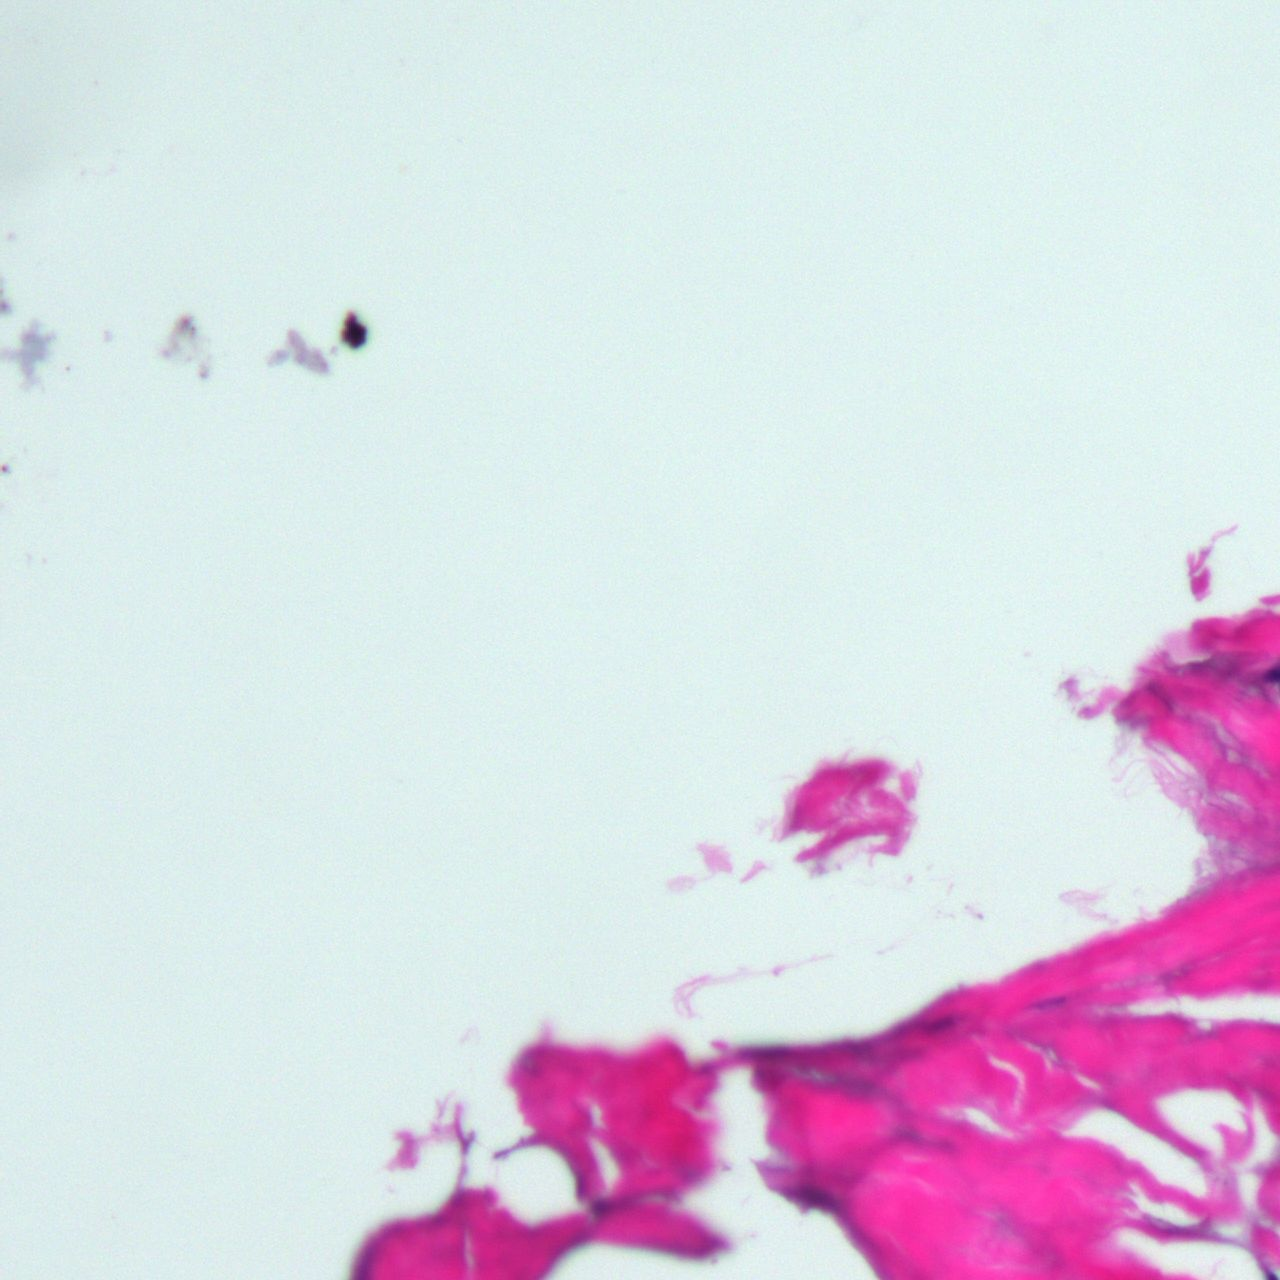dust: (19, 323, 51, 390), (288, 328, 328, 373), (344, 311, 366, 349), (170, 313, 193, 340), (266, 348, 287, 366), (197, 359, 208, 379)
